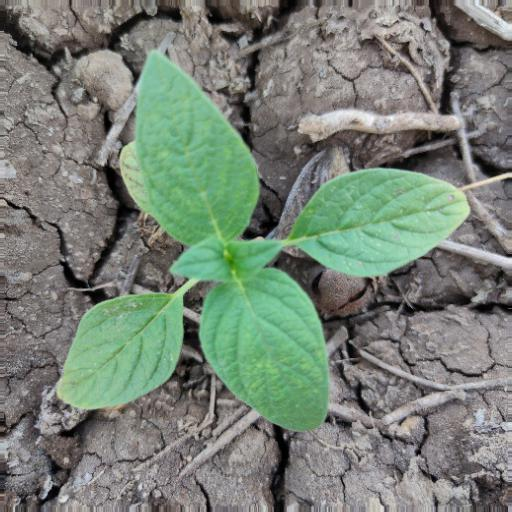crop: (49, 50, 473, 456)
